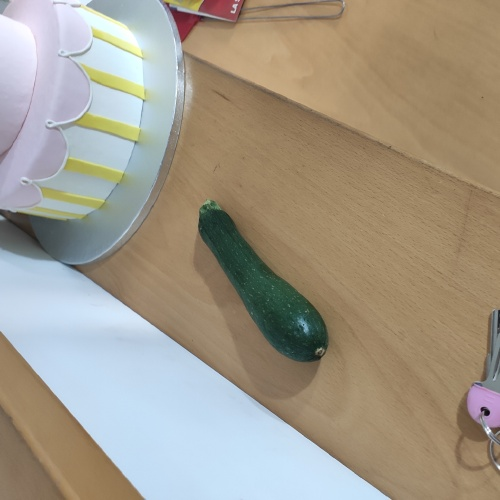zucchine: (189, 203, 339, 370)
